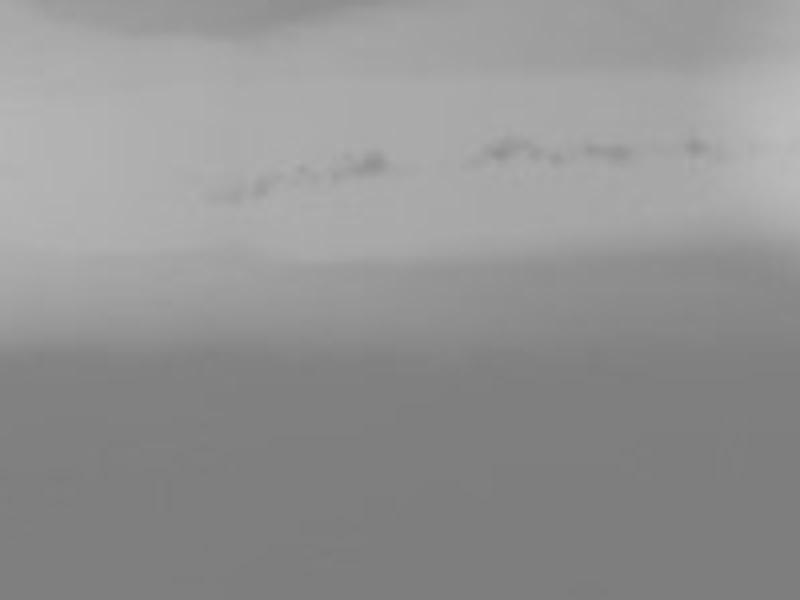defect: (330, 147, 391, 183), (463, 133, 521, 165), (585, 133, 637, 164), (202, 172, 244, 203), (292, 160, 327, 192), (250, 171, 282, 200), (546, 145, 570, 178), (683, 130, 708, 159), (522, 137, 546, 165)
